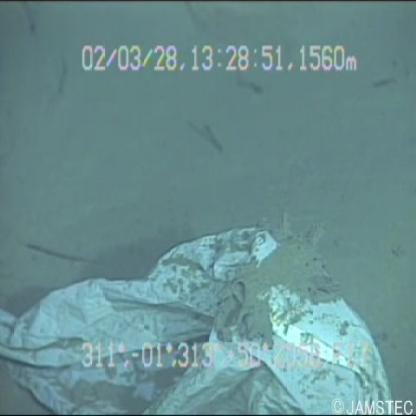Rác: (3, 219, 398, 416)
